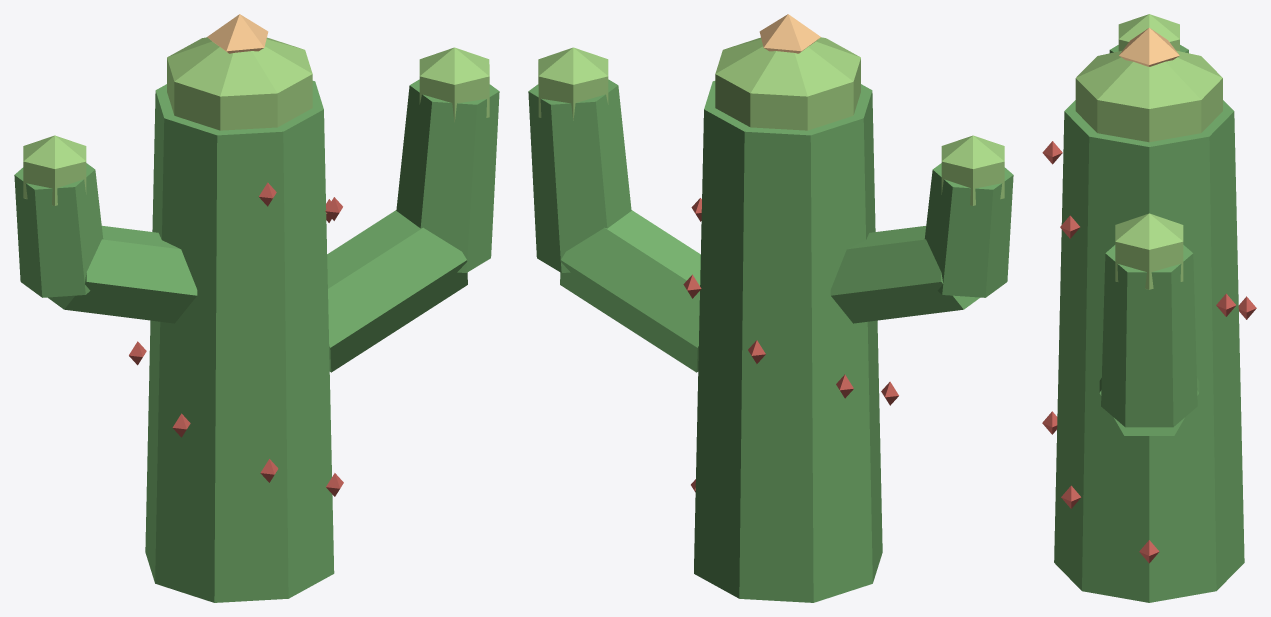
File: deco_cactus_piece.obj
3 views of the same model, side by side, from view 1: azimuth 30°, elevation 25°; view 2: azimuth 150°, elevation 25°; view 3: azimuth 270°, elevation 25° (orthographic). The views are drawn at different scales.
Visible parts, largest first — view 1: deco_cactus_piece; view 2: deco_cactus_piece; view 3: deco_cactus_piece.
Part boxes in pixels (x1=…): deco_cactus_piece: x1=14, y1=14, x2=499, y2=602; deco_cactus_piece: x1=528, y1=14, x2=1013, y2=602; deco_cactus_piece: x1=1042, y1=14, x2=1256, y2=602.
Size of the model in its own units: 0.0358 by 0.0403 by 0.0147.
Materials: 1 (1 with a texture image).
